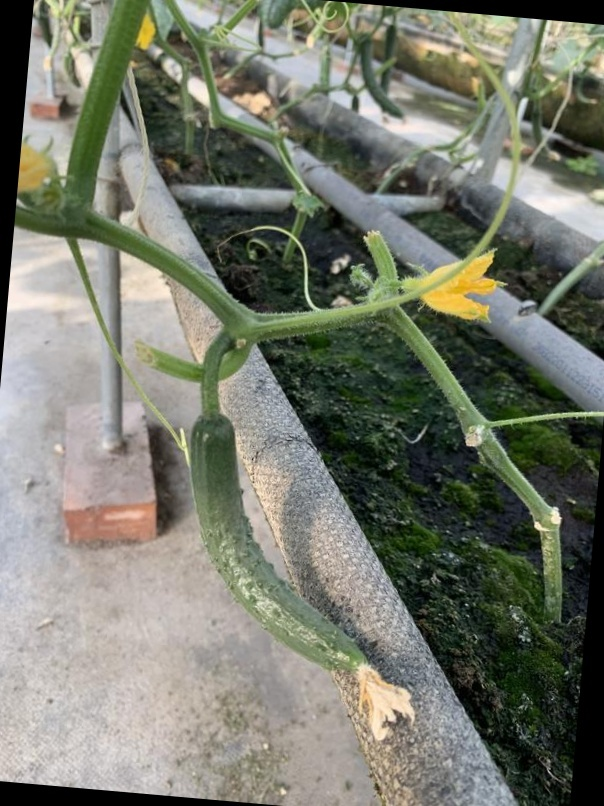bud: (409, 244, 504, 311)
growth: (182, 412, 393, 701)
